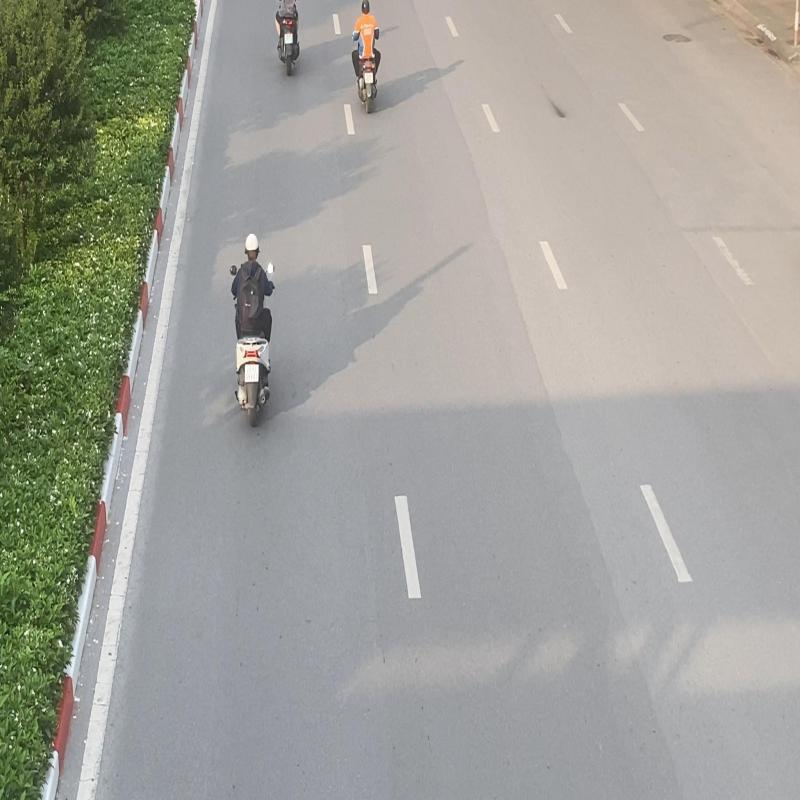helmet: (244, 232, 260, 261), (360, 0, 370, 15)
licenseplate: (245, 362, 258, 384), (364, 72, 374, 84)
motorcyclist: (229, 232, 276, 429), (351, 0, 382, 115)
